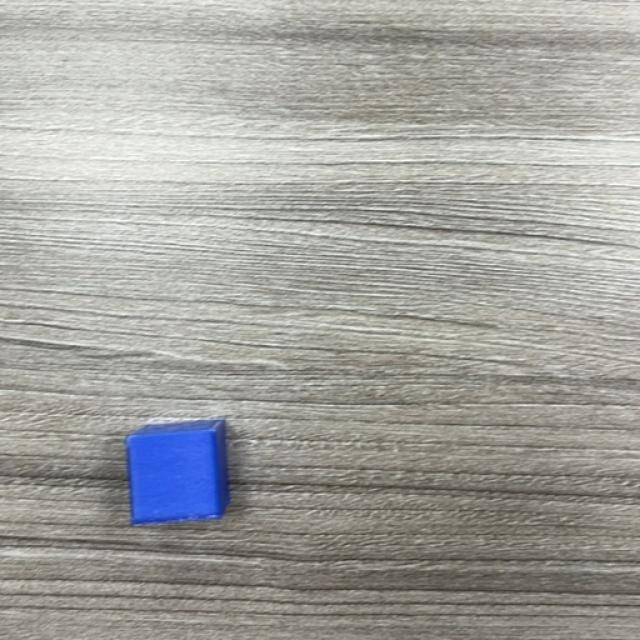Azul: (126, 419, 230, 526)
